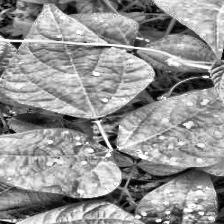Bean Rust: (1, 0, 151, 112), (110, 83, 224, 168), (0, 128, 120, 200), (0, 201, 224, 224), (134, 167, 214, 224)
